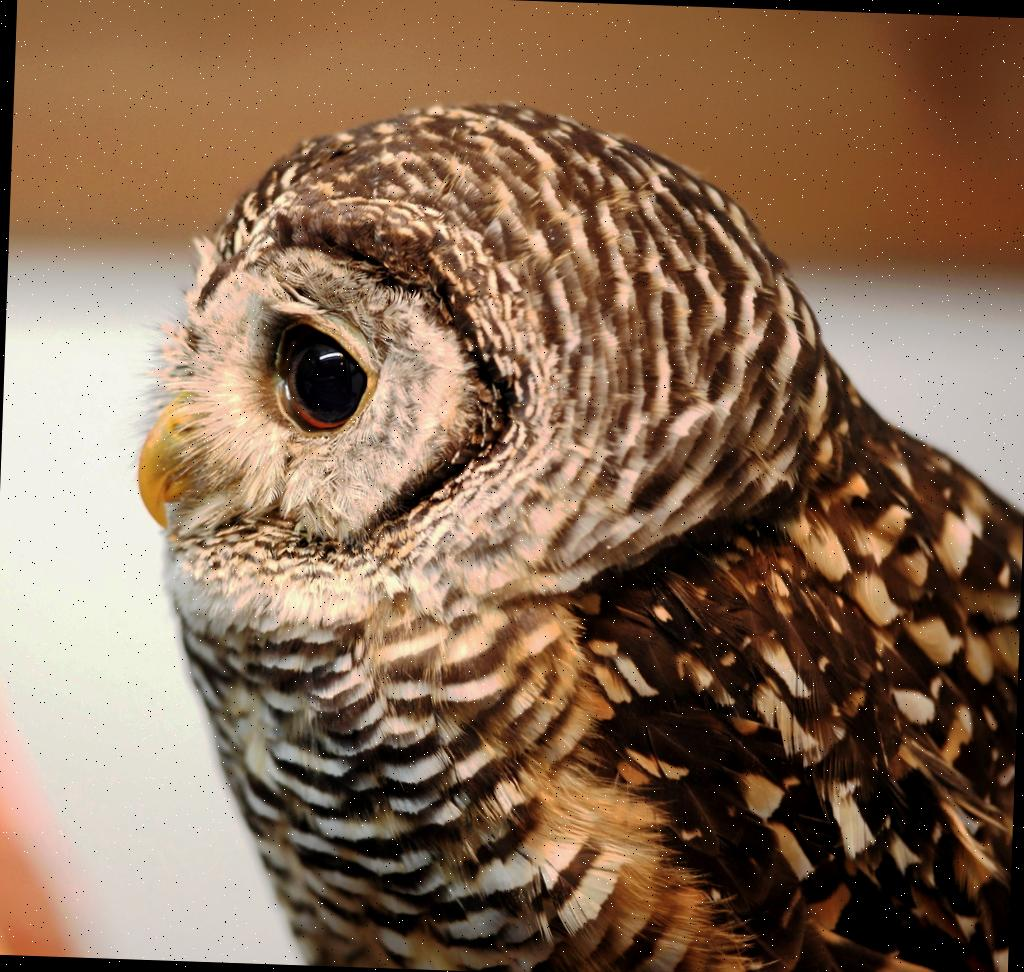Owl: (119, 92, 1024, 972)
